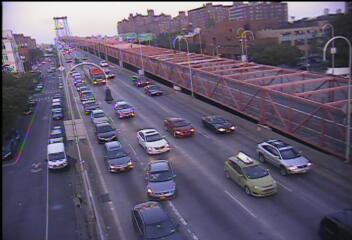neg: (97, 89, 116, 115), (132, 106, 151, 132), (208, 101, 221, 120), (166, 131, 179, 149)
